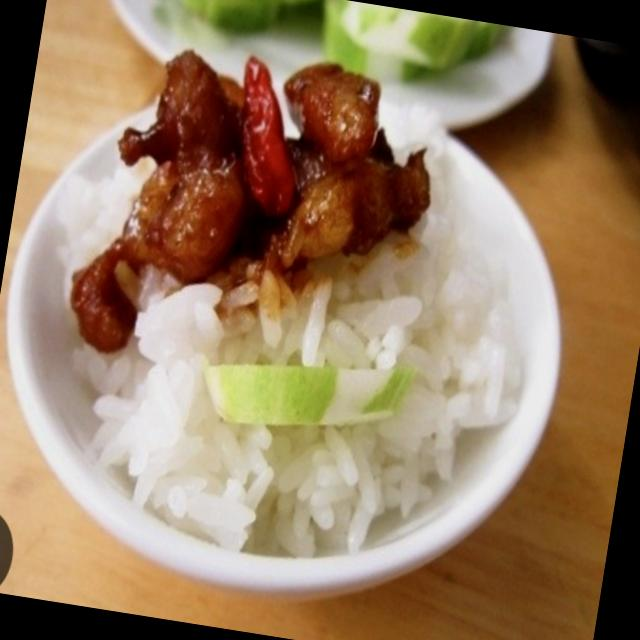com: (80, 123, 520, 558), (100, 289, 274, 549), (323, 415, 457, 552), (146, 286, 313, 362), (135, 284, 223, 362)
dua leo: (203, 364, 414, 426)
kho tieu: (70, 51, 430, 352)
